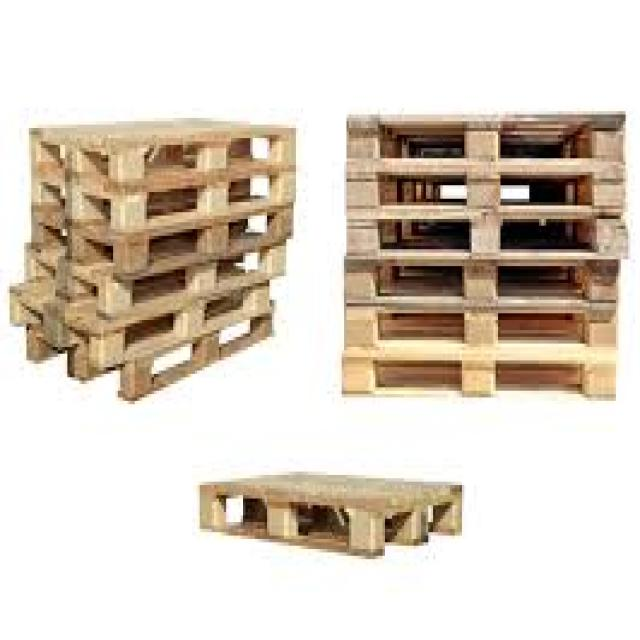Wooden-Pallets: (202, 462, 466, 562), (25, 97, 291, 183), (341, 110, 625, 176), (338, 208, 624, 266), (338, 352, 609, 406), (338, 308, 609, 354)
